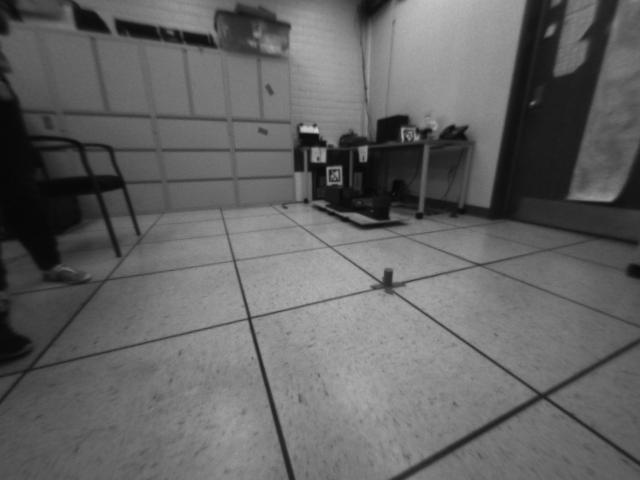X: (369, 266, 408, 296)
